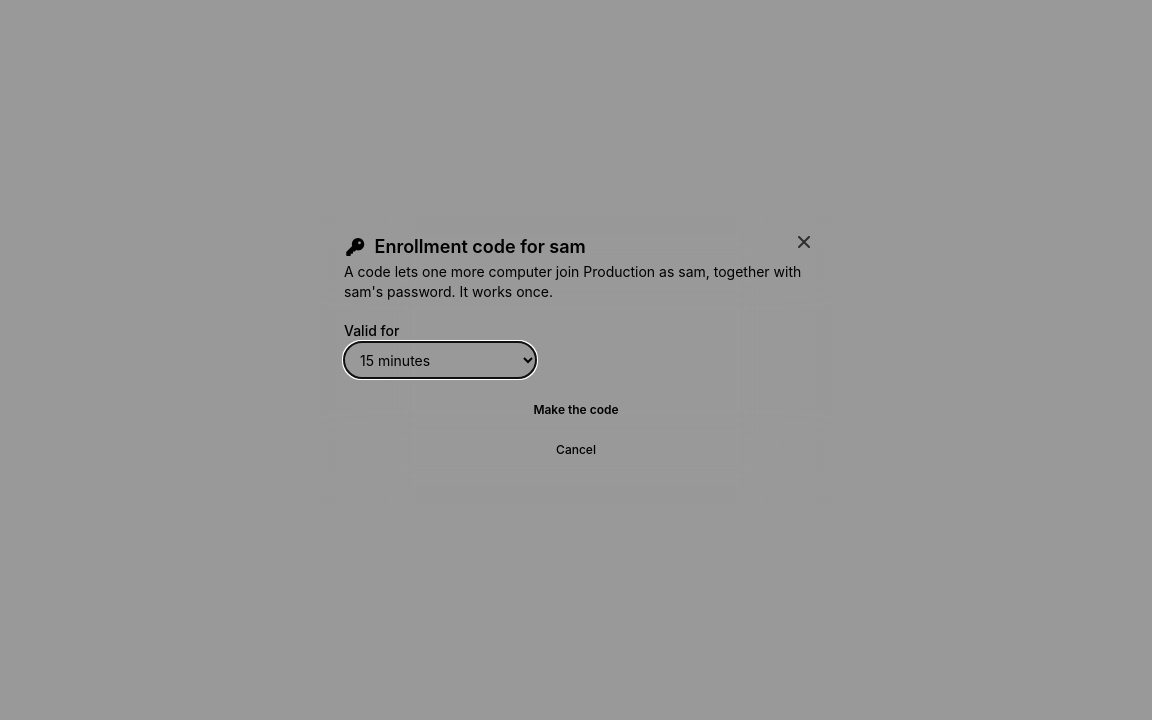
Test case: EnrollmentCodeDialog › says why the core would not make one
The width and height of the screenshot is (1152, 720).
Click the button "Make the code".
click(576, 410)  # box x1=344 y1=394 x2=808 y2=426
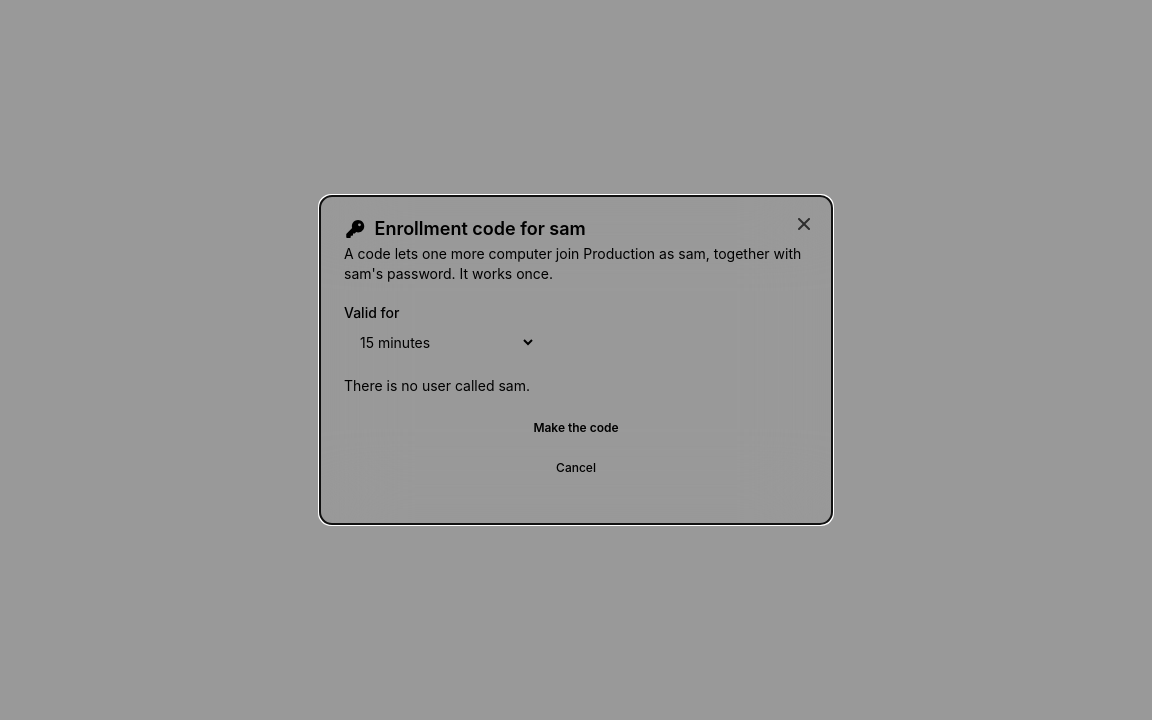
Now the message reads "There is no user called sam.", box x1=344 y1=377 x2=530 y2=394
